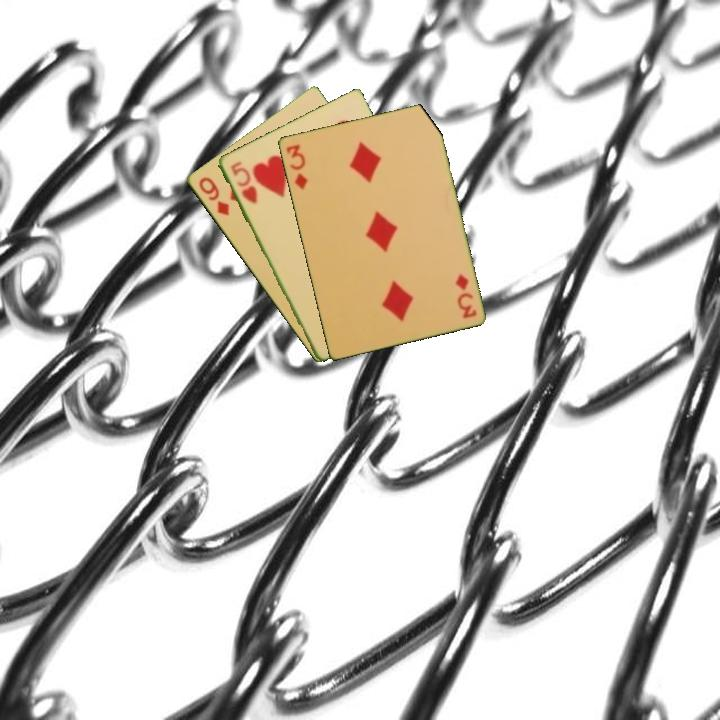3d: (282, 141, 310, 192), (451, 271, 479, 321)
5h: (227, 157, 260, 207)
9d: (195, 173, 232, 219)
